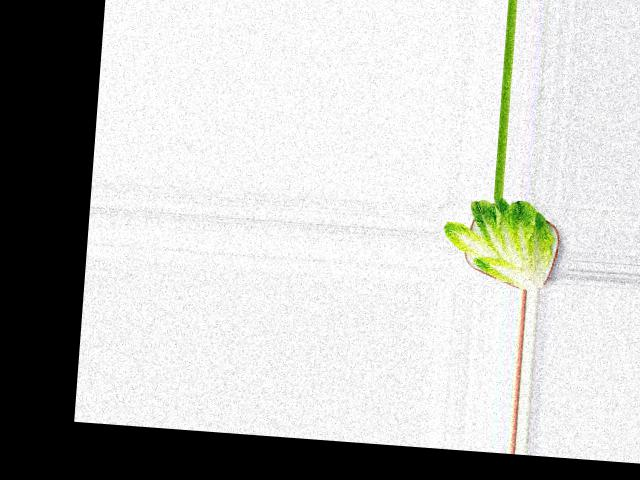lettuce: (437, 192, 563, 289)
